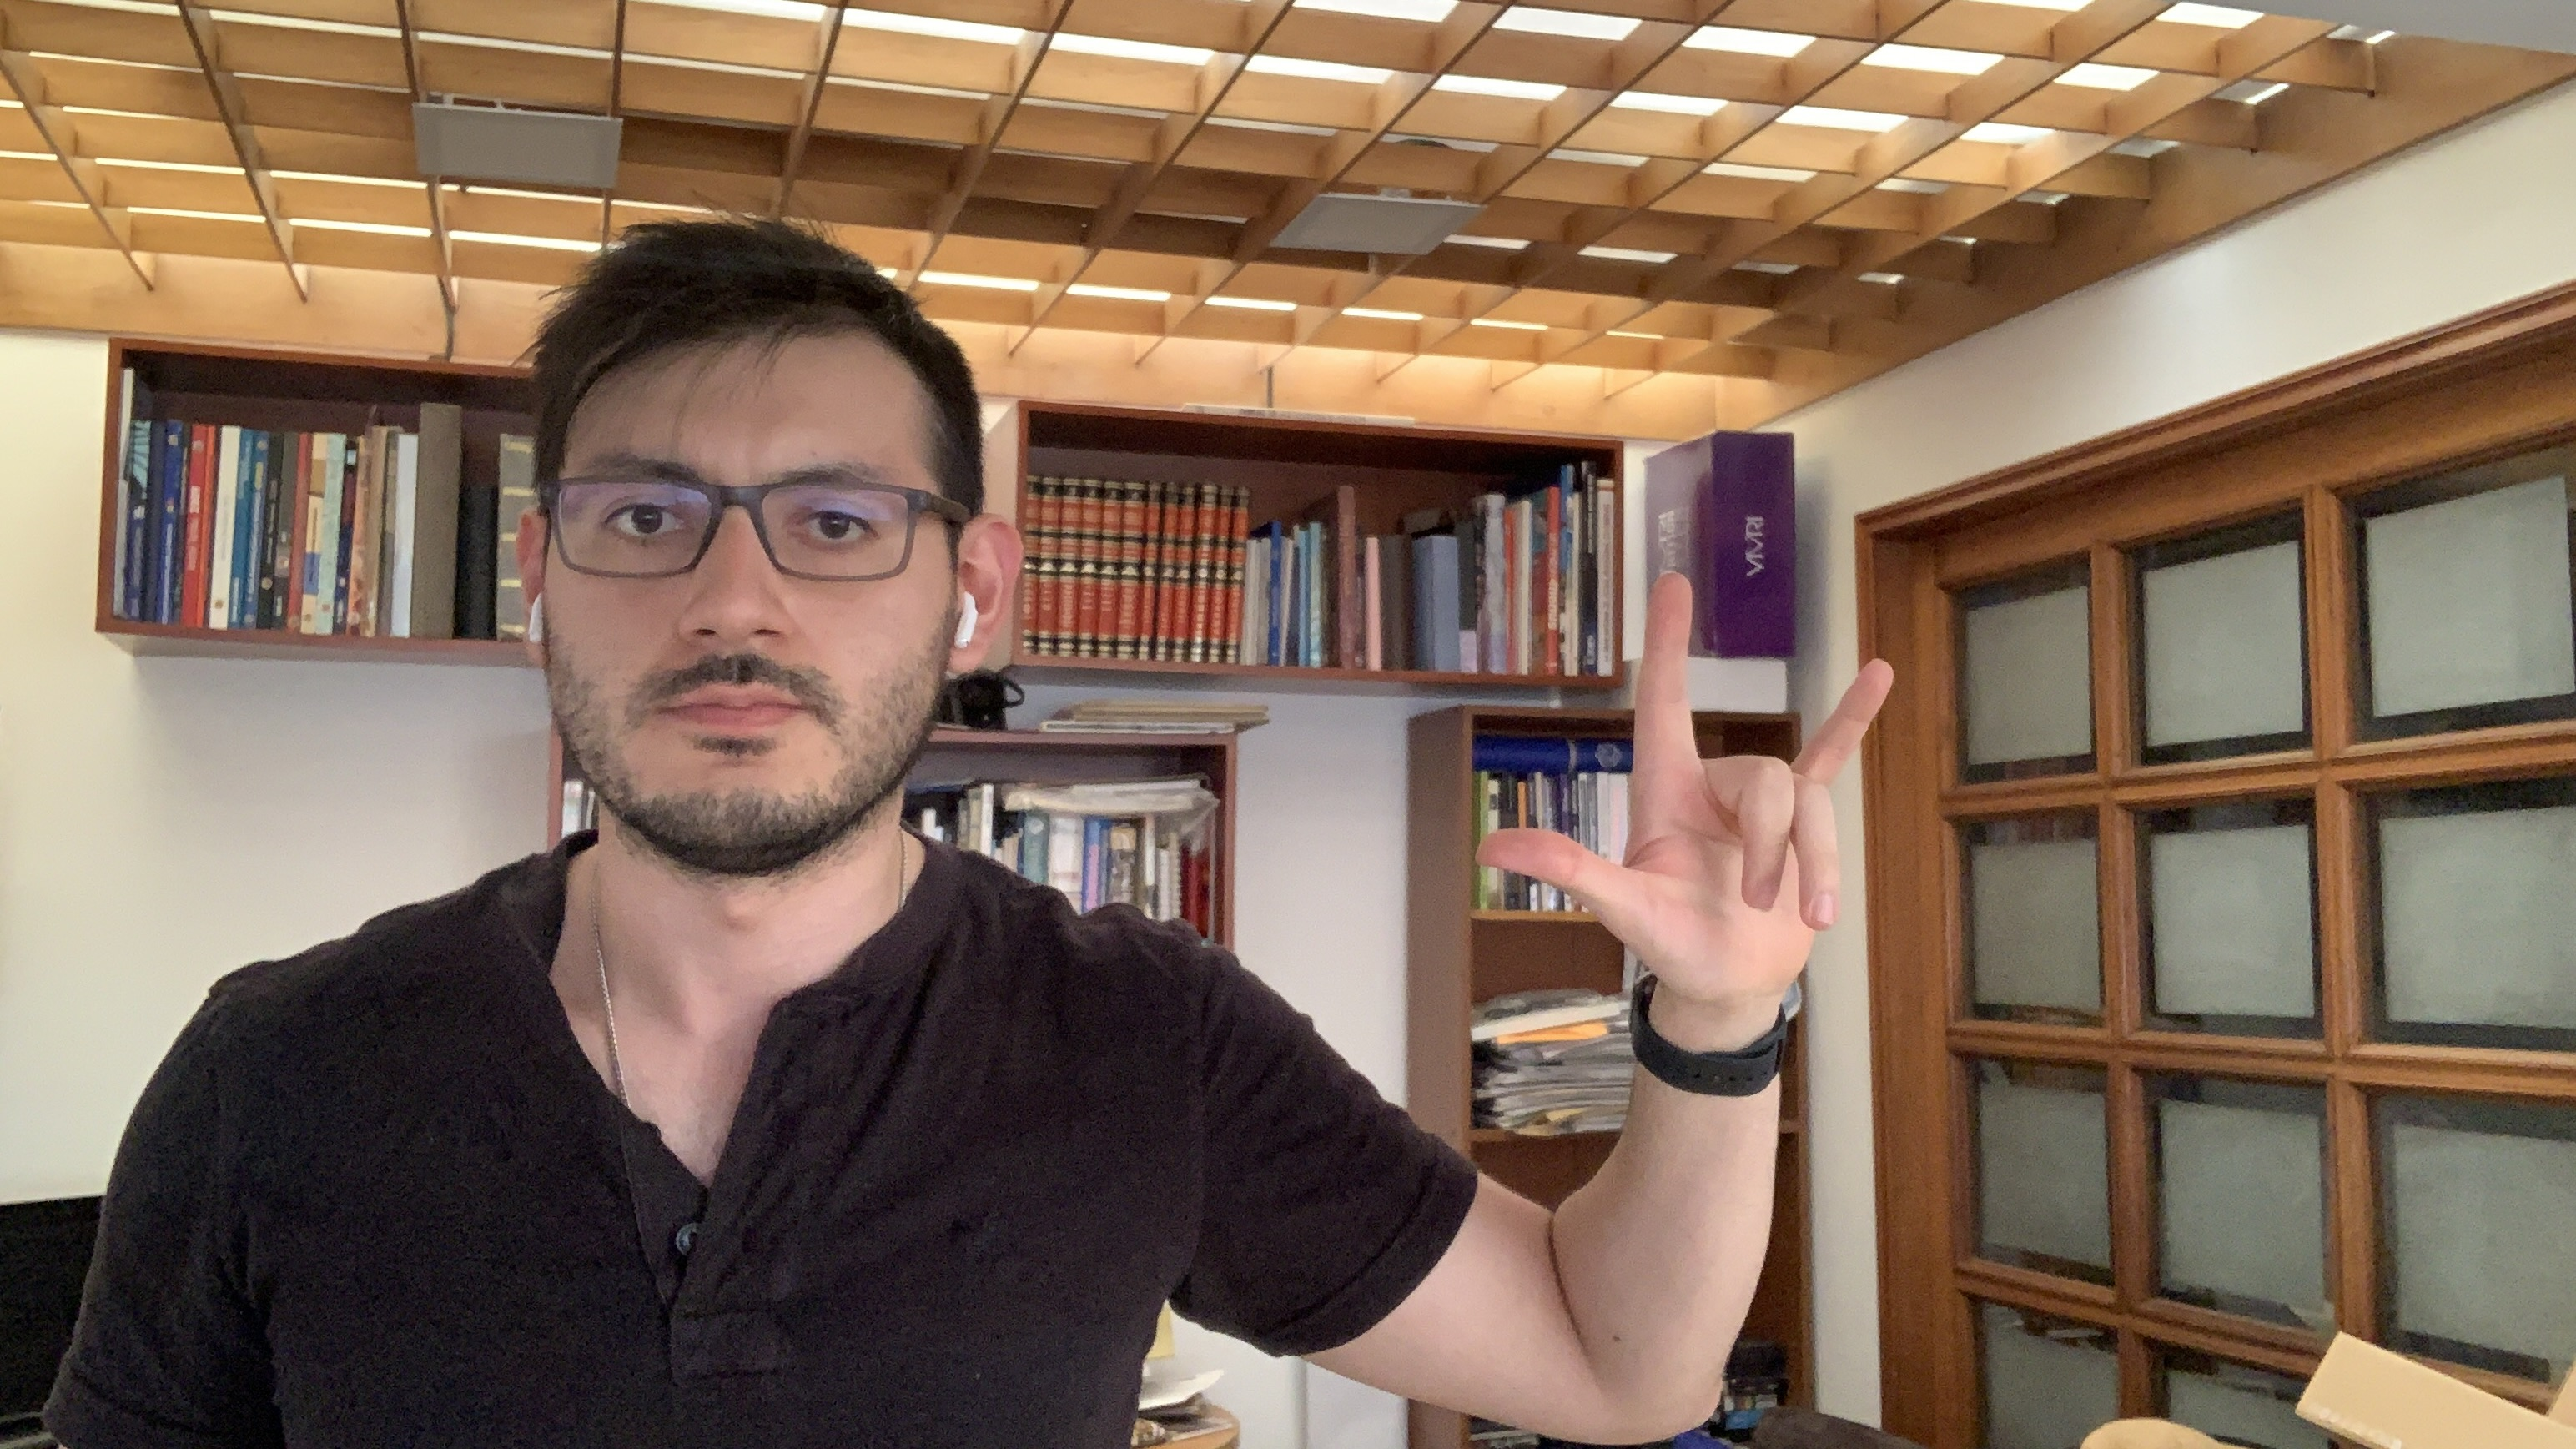I Love You: (1467, 564, 1911, 1026)
